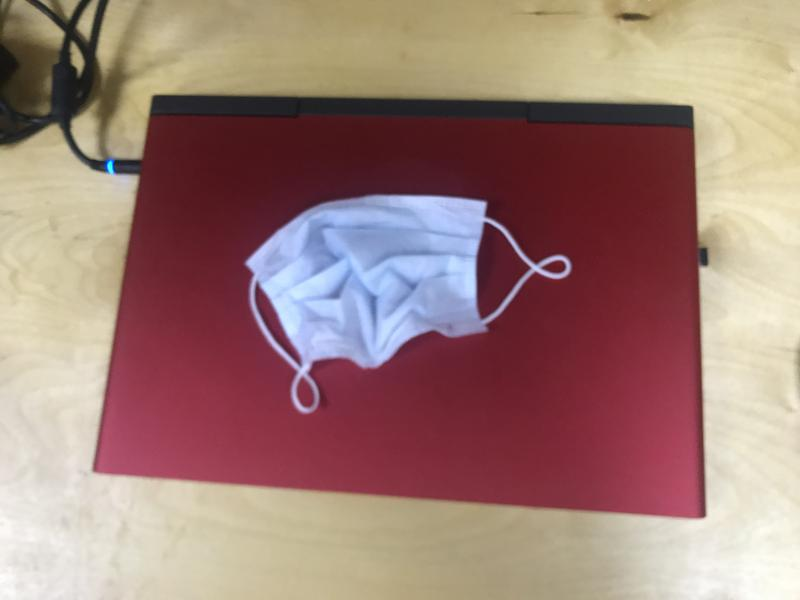medical_mask: (248, 195, 570, 412)
